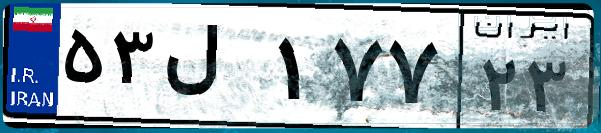1: (270, 28, 330, 110)
2: (475, 38, 525, 113)
3: (525, 38, 570, 115), (110, 28, 158, 98)
5: (57, 26, 110, 100)
7: (385, 28, 445, 110), (330, 28, 385, 110)
ل: (158, 20, 270, 120)
